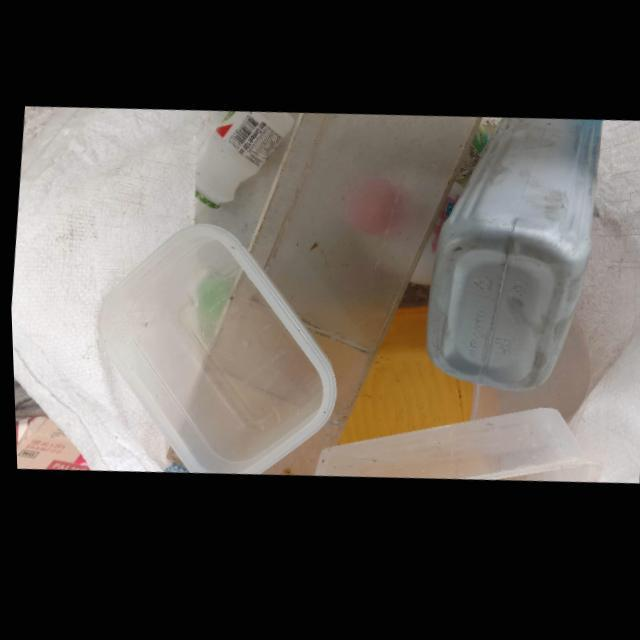plastic: (95, 226, 333, 478), (422, 125, 603, 399), (310, 416, 602, 492), (193, 113, 293, 212)
